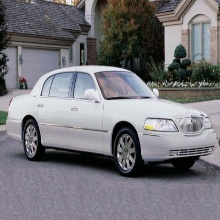no damage: (5, 64, 218, 177)
